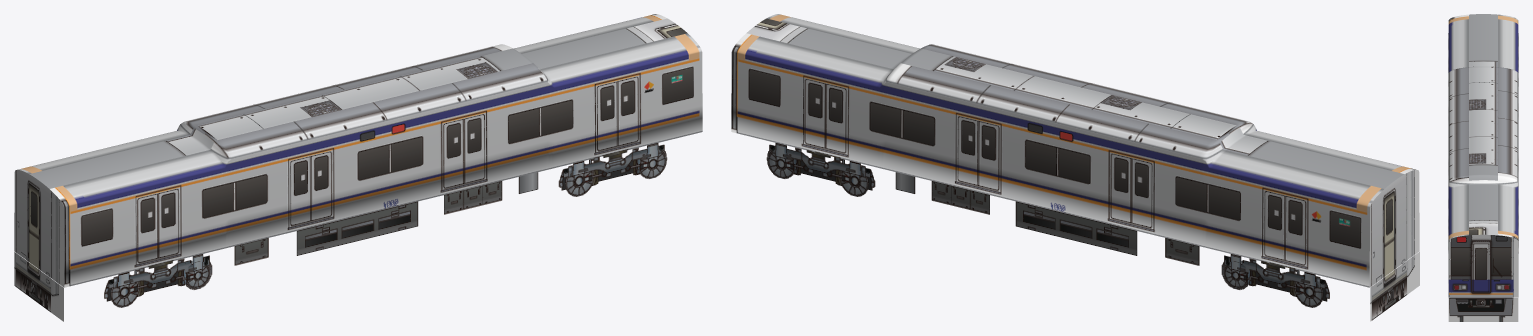
Rendered from car2.glb.
3 renders of one model, left to right at view 1: azimuth 30°, elevation 25°; view 2: azimuth 150°, elevation 25°; view 3: azimuth 270°, elevation 25°, orthographic. The views are drawn at different scales.
Visible parts, largest first — view 1: nankai-1000-car2; view 2: nankai-1000-car2; view 3: nankai-1000-car2.
Part boxes in pixels (bbox=[...]): nankai-1000-car2: bbox=[14, 14, 702, 321]; nankai-1000-car2: bbox=[731, 14, 1419, 321]; nankai-1000-car2: bbox=[1448, 14, 1518, 321].
Bounding box in the file's own units: 20.73 × 4.05 × 2.8.
8 materials, 7 textured.
